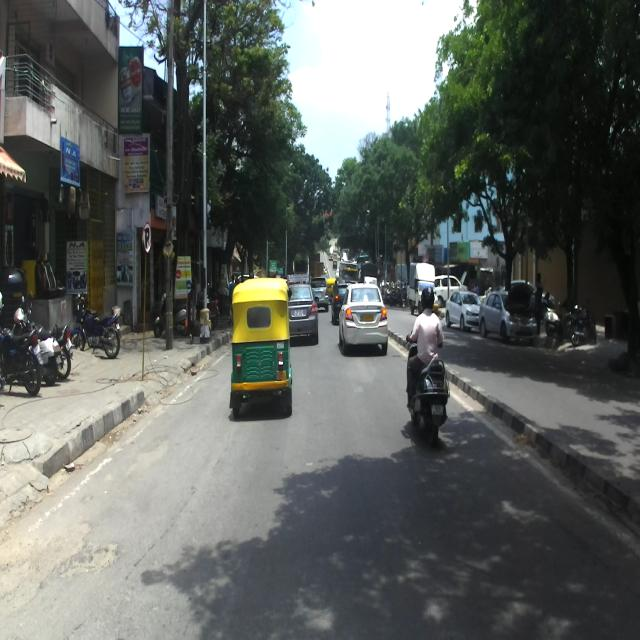auto ahead at: (225, 275, 293, 422)
car ahead at: (340, 277, 386, 351)
motorcycle ahead at: (403, 366, 451, 446)
sign board ahead at: (140, 222, 156, 254)
